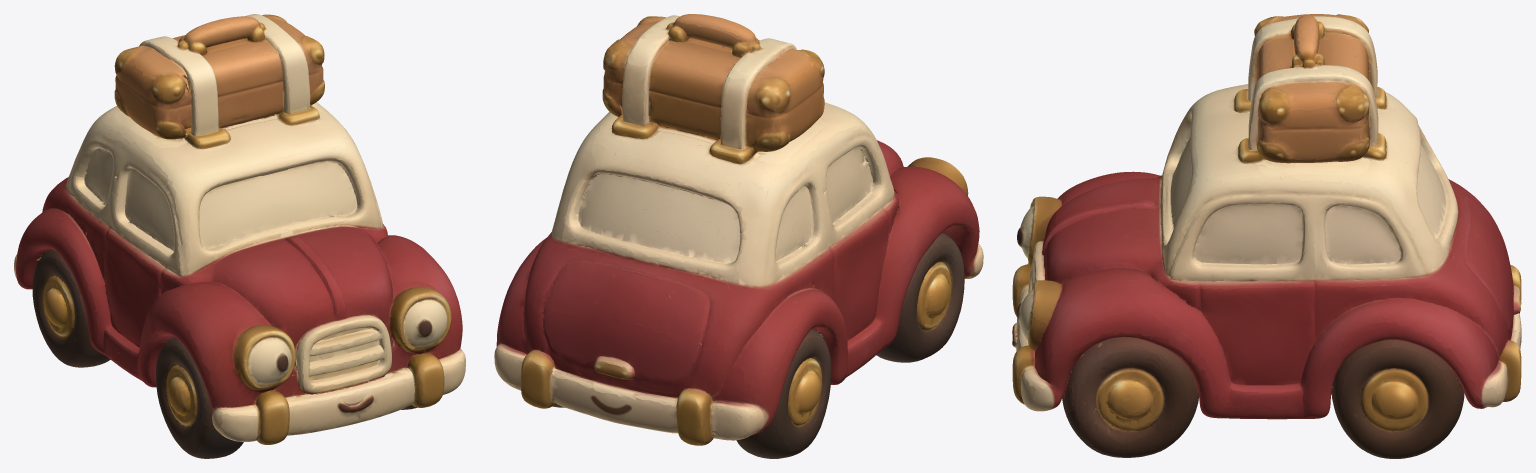
3 renders of one model, left to right at view 1: azimuth 30°, elevation 25°; view 2: azimuth 150°, elevation 25°; view 3: azimuth 270°, elevation 25°, orthographic. The views are drawn at different scales.
Visible parts, largest first — view 1: geometry_0; view 2: geometry_0; view 3: geometry_0.
Boxes of the visible parts, box(x1,y1,x2,y2) form: geometry_0: box(14, 14, 465, 458); geometry_0: box(494, 14, 983, 458); geometry_0: box(1012, 14, 1521, 458).
Size of the model in its own units: 0.18 by 0.2255 by 0.2779.
1 material, 1 textured.
